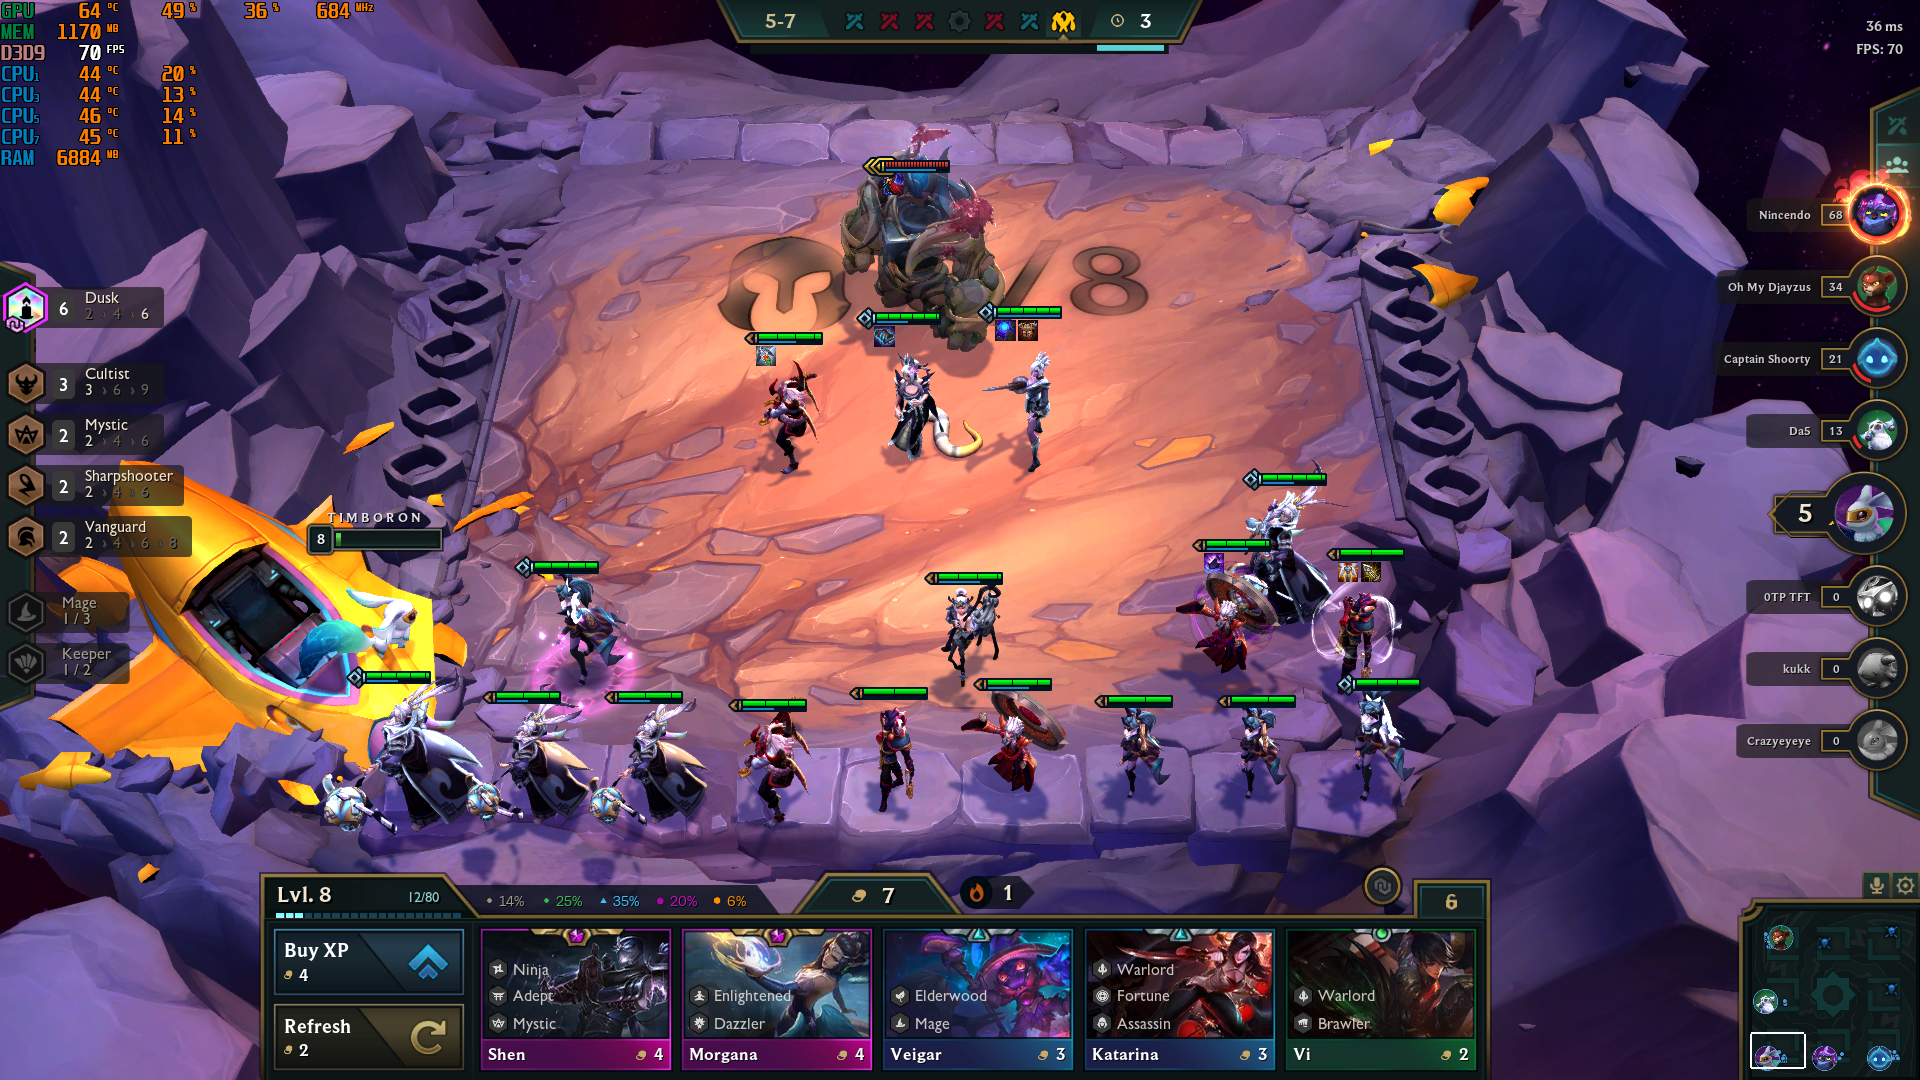1star_aatrox: (731, 320, 835, 491), (719, 680, 824, 840)
1star_jhin: (1298, 534, 1414, 709), (839, 676, 938, 824)
1star_lillia: (916, 558, 1021, 707)
1star_thresh: (462, 676, 607, 847), (583, 679, 721, 844)
1star_vayne: (1088, 678, 1187, 825), (1207, 678, 1305, 825)
1star_zilean: (1167, 526, 1287, 696), (953, 669, 1069, 825)
2star_cassiopeia: (843, 301, 993, 485)
2star_riven: (968, 295, 1077, 485)
2star_thresh: (310, 659, 487, 851), (1172, 456, 1356, 636)
2star_vayne: (508, 549, 649, 724), (1327, 671, 1427, 814)
item_bluebuff: (994, 316, 1018, 342)
item_bramble: (1015, 318, 1039, 343)
item_ga: (1336, 558, 1360, 583)
item_ie: (1361, 558, 1385, 583)
item_morello: (872, 323, 895, 348)
item_redemption: (754, 343, 778, 368)
item_shroud: (884, 171, 907, 196)
item_zzrot: (1203, 551, 1226, 576)
trait_cultist3: (1, 349, 182, 413)
trait_dusk6: (1, 276, 182, 339)
trait_dusk_chosen: (1, 280, 51, 338)
trait_keeper1: (1, 636, 141, 688)
trait_mage1: (1, 585, 141, 638)
trait_mystic2: (1, 411, 193, 460)
trait_sharpshooter2: (1, 462, 193, 510)
trait_vanguard2: (1, 510, 198, 562)
